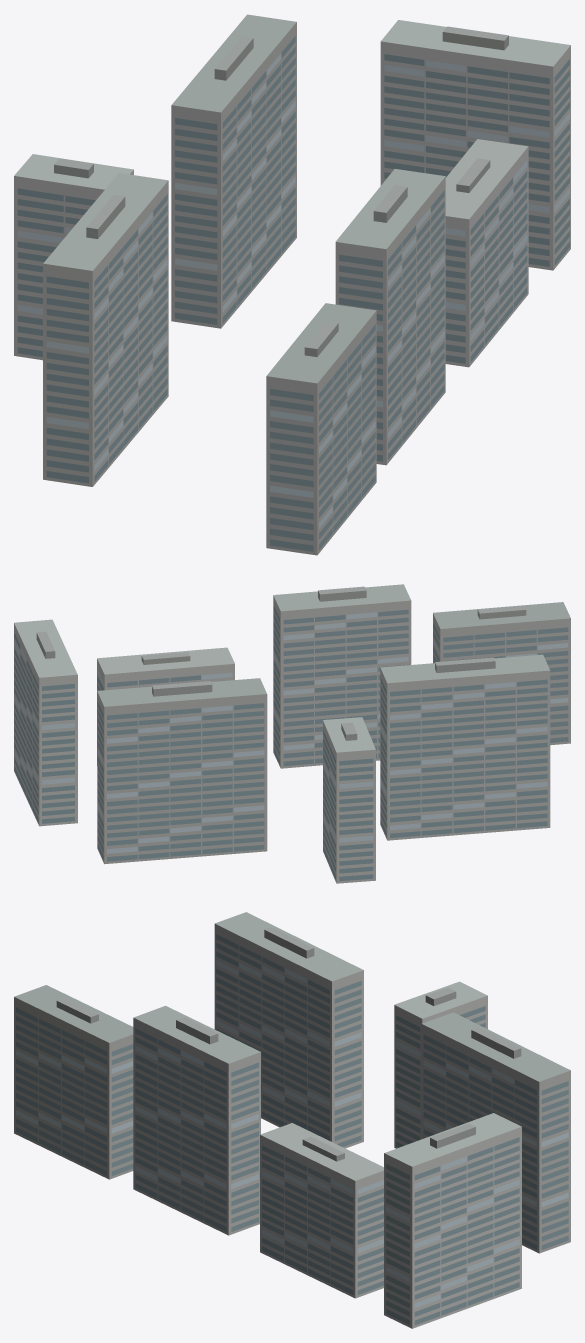
The model's file is apt-a13003003.glb.
The picture shows the model from 3 angles, top to bottom: view 1: azimuth 30°, elevation 25°; view 2: azimuth 150°, elevation 25°; view 3: azimuth 270°, elevation 25°; orthographic projection. The views are drawn at different scales.
Parts seen in each view (by area): view 1: apt-a13003003; view 2: apt-a13003003; view 3: apt-a13003003.
Part boxes in pixels (x1,y1,x2,y2): apt-a13003003: [14, 14, 570, 555]; apt-a13003003: [14, 584, 570, 883]; apt-a13003003: [14, 912, 570, 1328].
Size of the model in its own units: 158 by 54 by 152.
